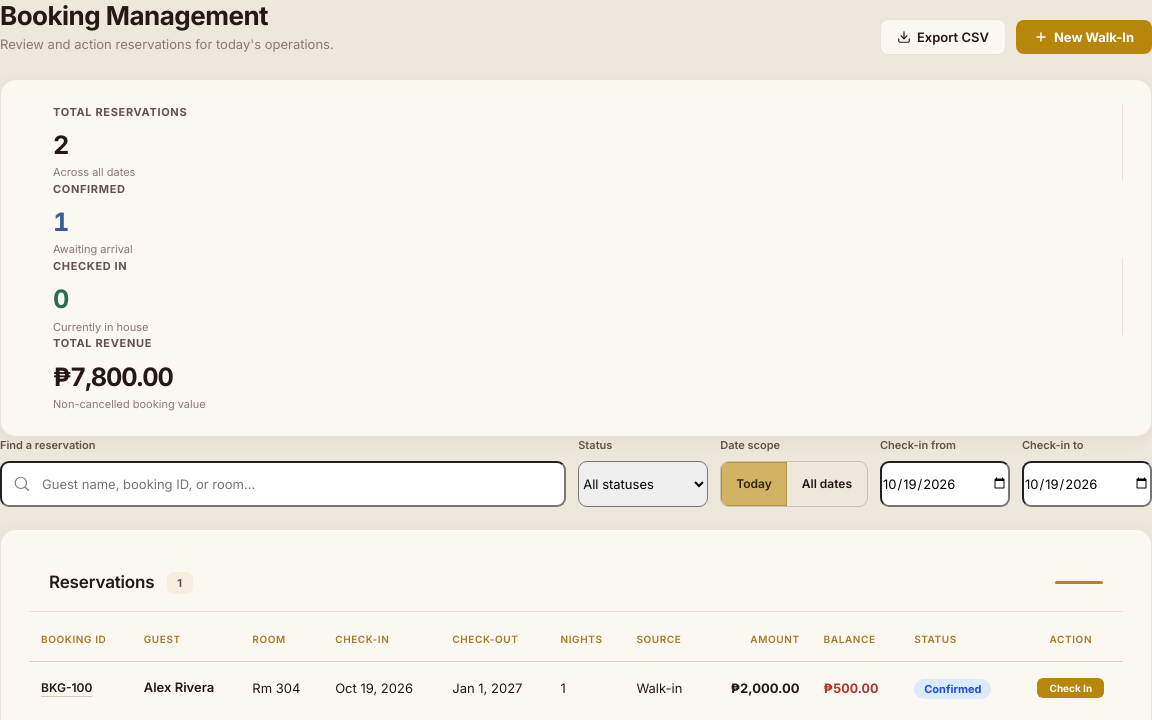
Test: invalid date range is explained inline and walk-in submission waits for valid fields
The image size is (1152, 720).
Expected: the button "BKG-100" is shown, [41,676,92,700]
Type "2026-10-10" into the date field labelled "Check-in from".
click(945, 484); type("2026-10-10")  # box [880,461,1010,507]
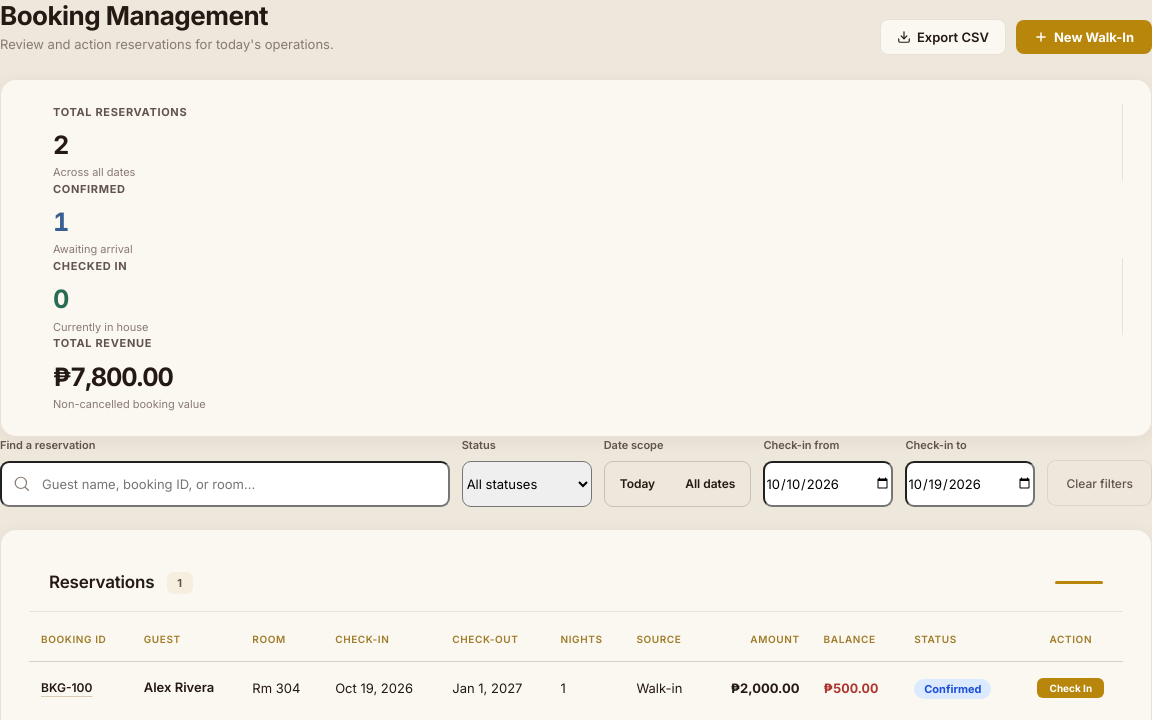
Type "2026-10-09" into the date field labelled "Check-in to".
click(970, 484); type("2026-10-09")  # box [905,461,1035,507]
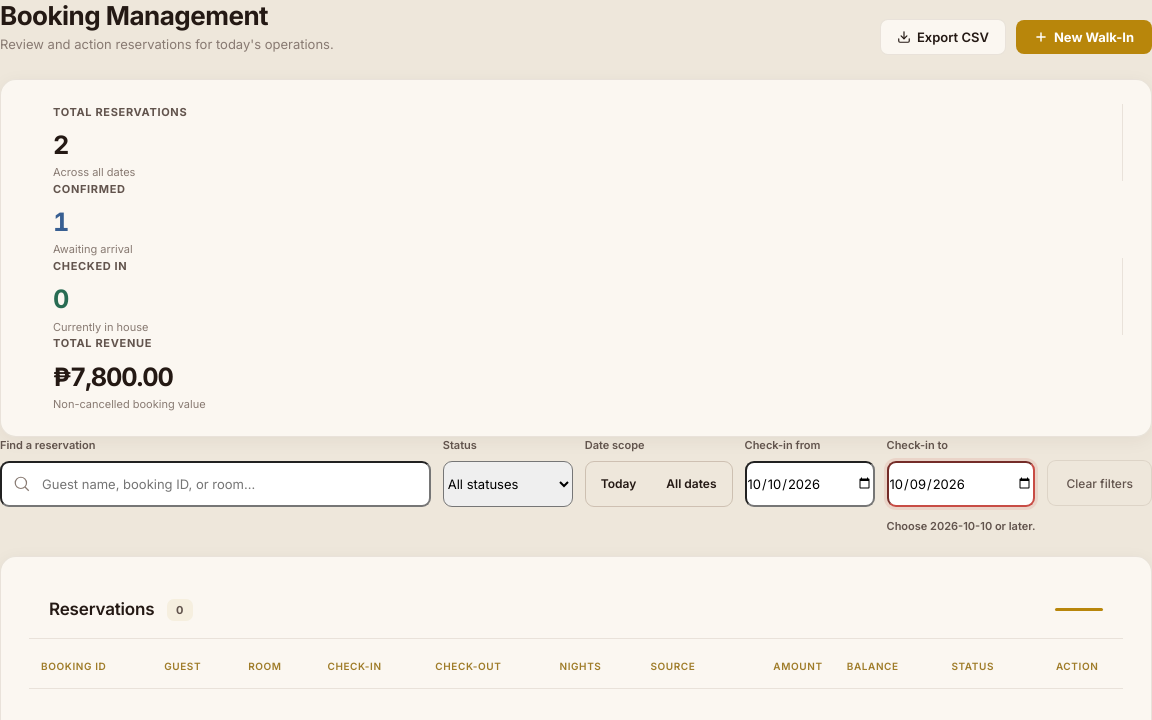
Expected: the date field labelled "Check-in to" is marked as invalid, [886,461,1035,507]
Click the button "New Walk-In".
click(1084, 37)  # box [1016,20,1151,54]
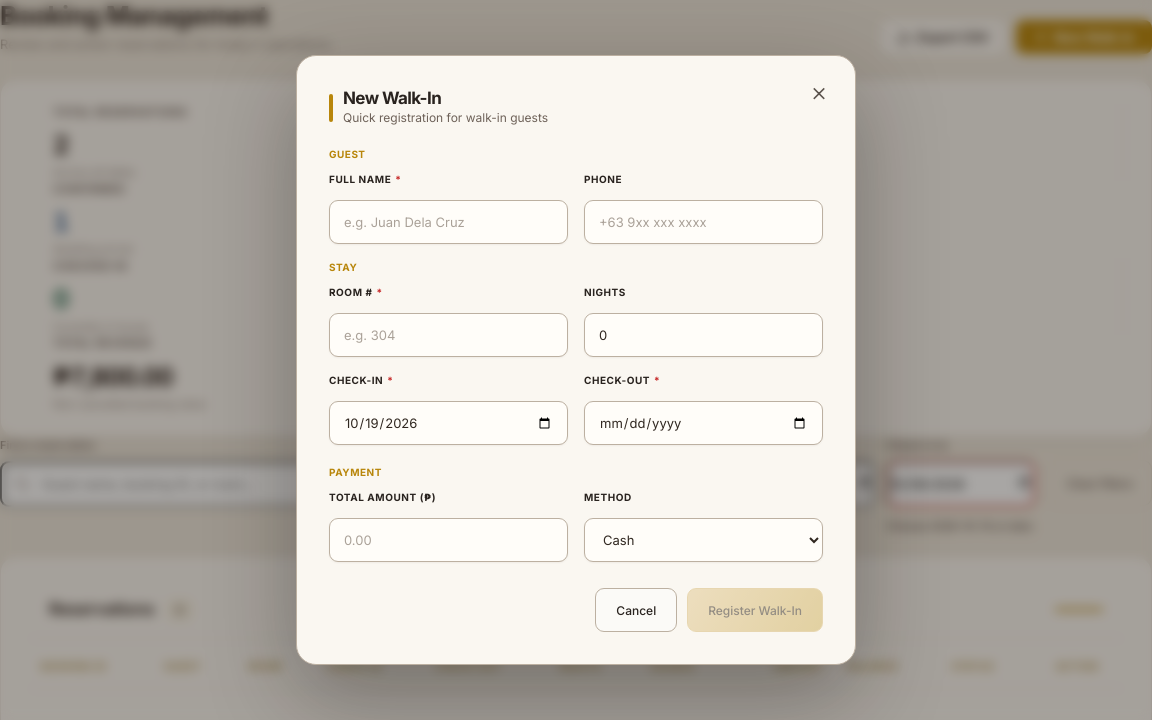
Expected: the button "Register Walk-In" is disabled, [687,588,823,632]
